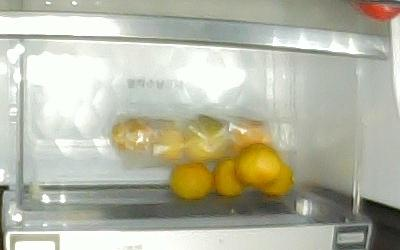tangerine: (234, 143, 282, 188), (170, 160, 213, 200), (213, 157, 245, 197), (258, 162, 294, 197)
tangerine_vinyl: (182, 115, 228, 161), (229, 122, 272, 156), (111, 119, 153, 150), (153, 123, 184, 162)
